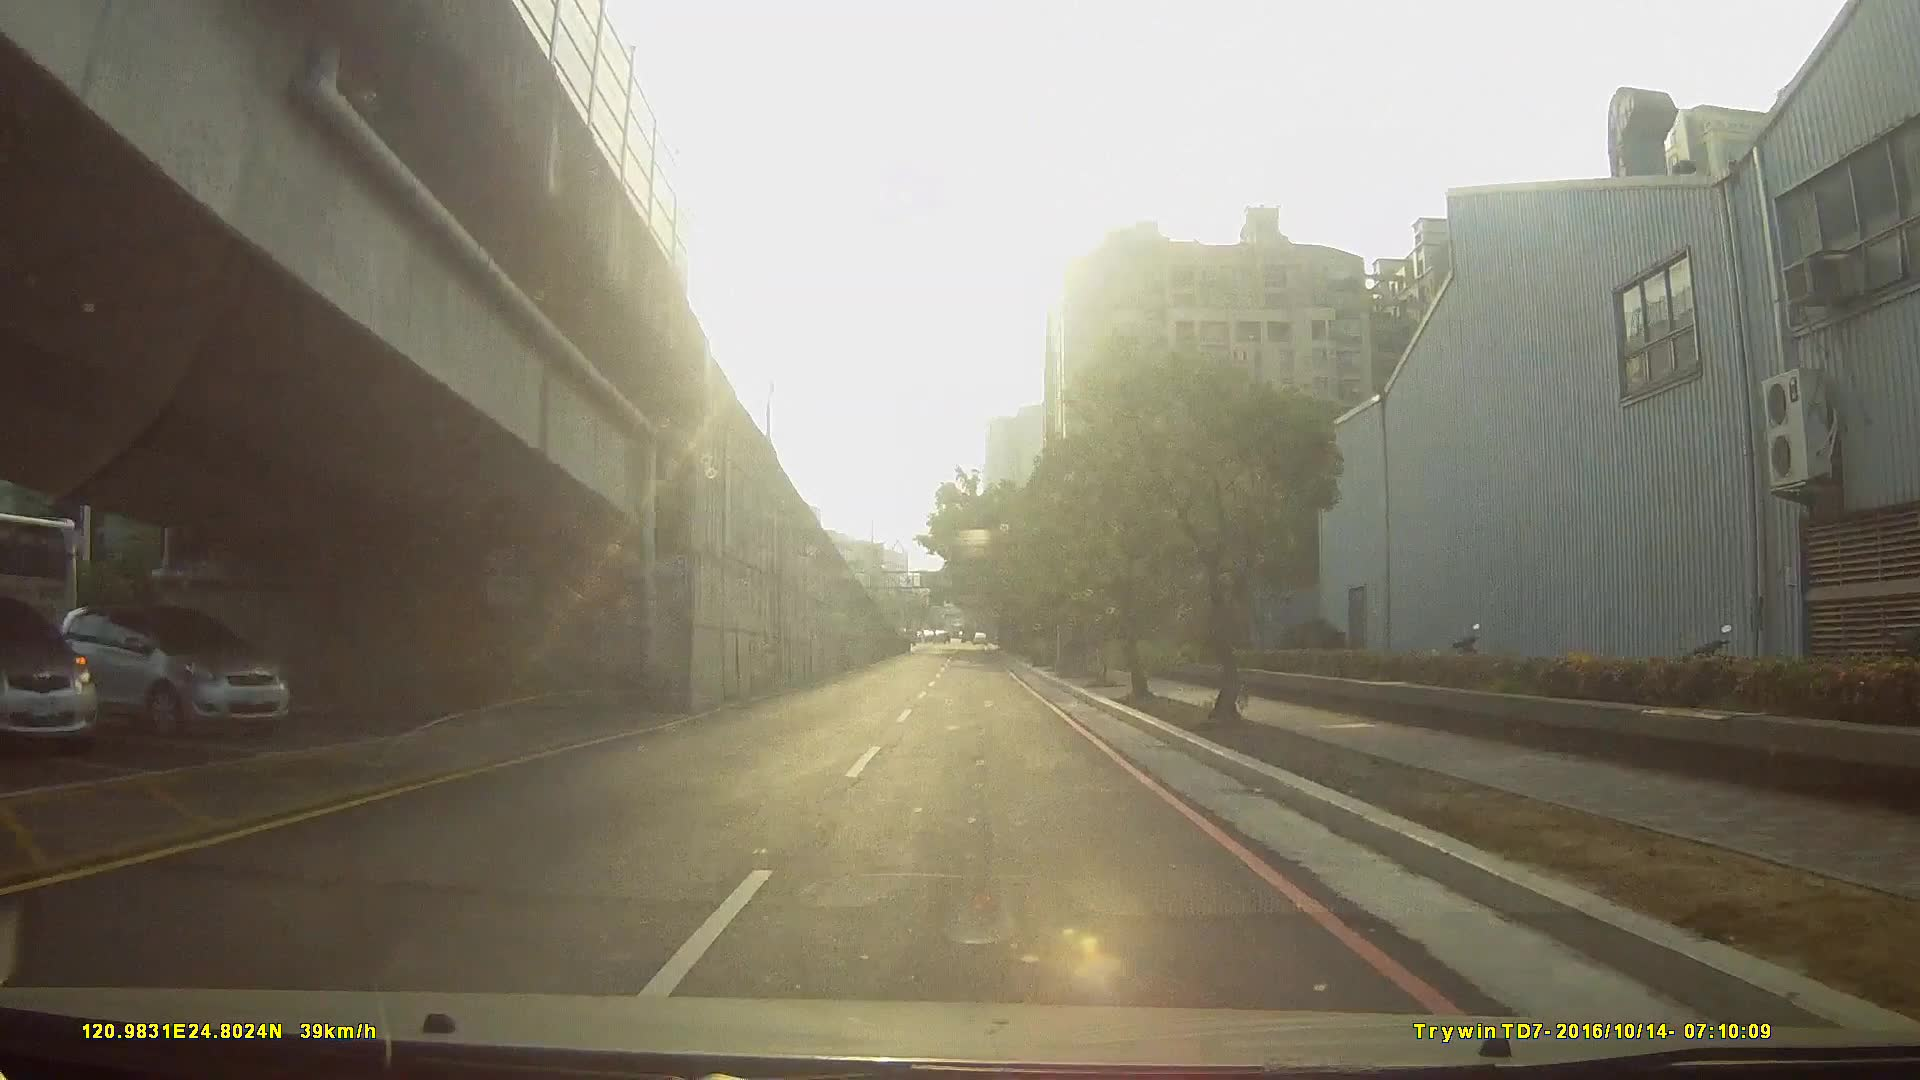vehicle: (37, 601, 295, 742), (1, 603, 105, 748)
